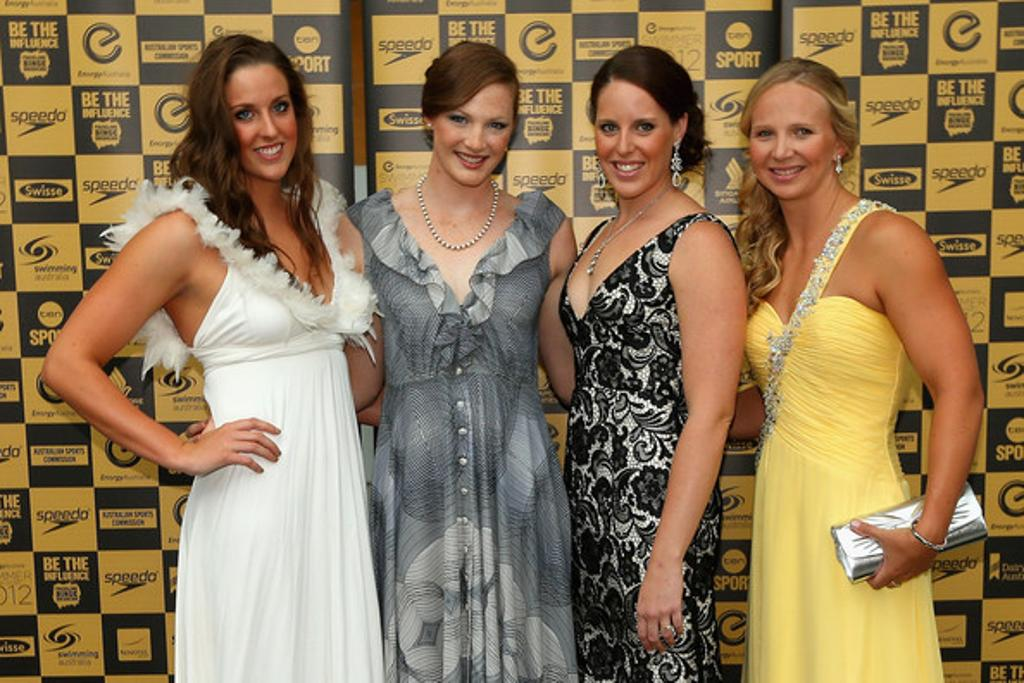face: (216, 82, 302, 180), (588, 90, 672, 190), (432, 82, 510, 184), (754, 90, 826, 192)
